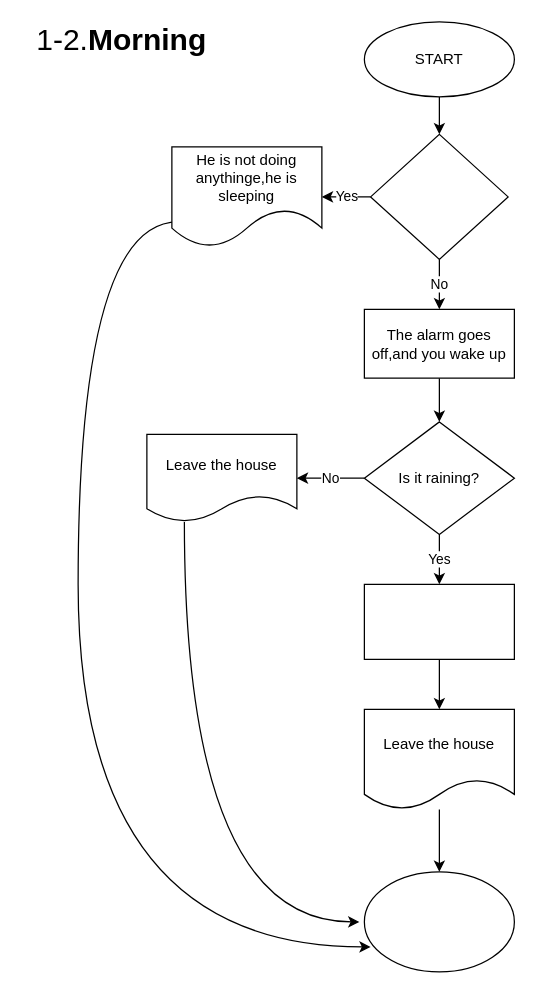
This 536x994 diagram has some shape labels left out. The centre of each missing label's shape, as x and y in pixels:
"End" belongs at point (438, 921).
"Is it the weekend?" belongs at point (438, 196).
"Take an umbrella" belongs at point (438, 621).
